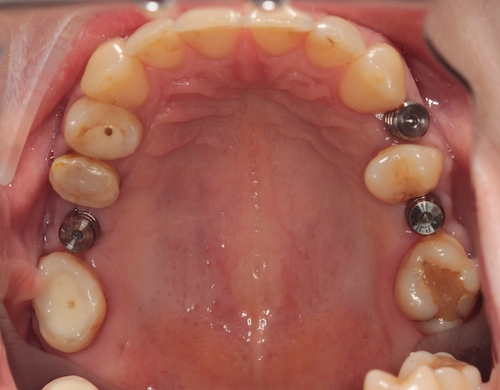UL1BC_decay: (383, 101, 431, 146)
UL1M_decay: (391, 197, 454, 237)
UL2BC_decay: (364, 144, 439, 202)
UL2M_decay: (393, 238, 478, 331)
ULCI_healthy: (246, 10, 314, 54)
ULC_healthy: (341, 44, 404, 111)
ULLI_decay: (308, 16, 365, 66)
UR1BC_decay: (65, 99, 140, 159)
UR1M_decay: (49, 204, 107, 256)
UR2BC_decay: (49, 156, 121, 208)
UR2M_decay: (35, 252, 107, 352)
URCI_healthy: (177, 7, 241, 55)
URC_healthy: (82, 39, 147, 104)
URLI_healthy: (128, 19, 180, 66)
